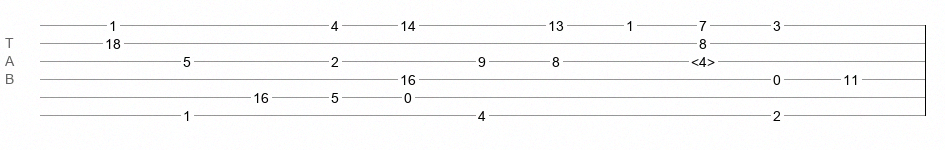0: (404, 90, 412, 100), (773, 72, 781, 82)
1: (109, 18, 117, 28), (183, 108, 191, 118), (626, 18, 634, 28)
11: (843, 72, 859, 82)
13: (548, 18, 564, 28)
14: (400, 18, 416, 28)
16: (253, 90, 269, 100), (400, 72, 416, 82)
18: (105, 36, 121, 46)
2: (331, 54, 339, 64), (773, 108, 781, 118)
3: (773, 18, 781, 28)
4: (331, 18, 339, 28), (478, 108, 486, 118)
5: (183, 54, 191, 64), (331, 90, 339, 100)
7: (699, 18, 707, 28)
8: (552, 54, 560, 64), (699, 36, 707, 46)
9: (478, 54, 486, 64)
harmonic: (691, 54, 715, 64)
